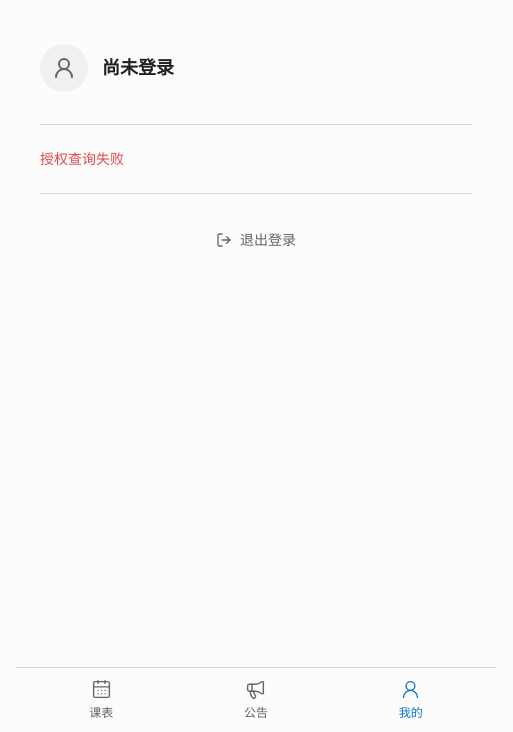
Test: mobile routes and course interactions › keeps an authorization failure across app routes until manually retried
This screenshot has width=513, height=732.
Expected: the text "授权查询失败" is shown, [40,150,124,167]
Click the link "课表": (101, 699) [89,678,113,720]
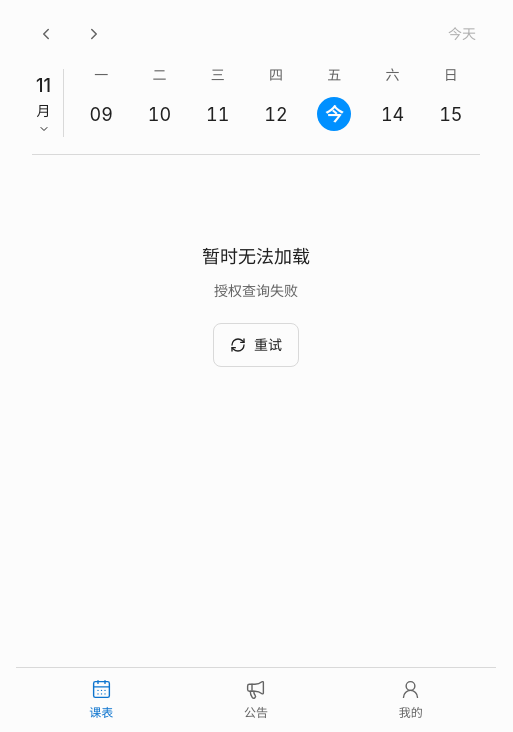
Expected: the text "授权查询失败" is shown, [214,279,298,303]
Click the button "重试": (256, 345) [213,323,299,367]
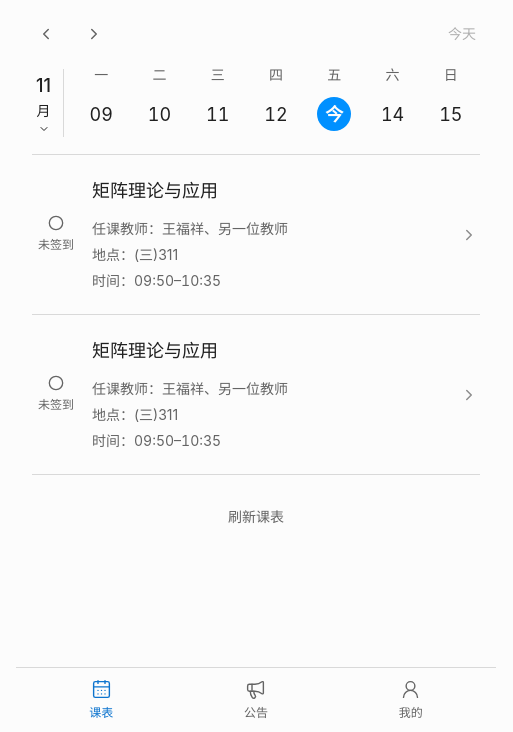
Click the link "我的": (411, 699) [399,678,423,720]
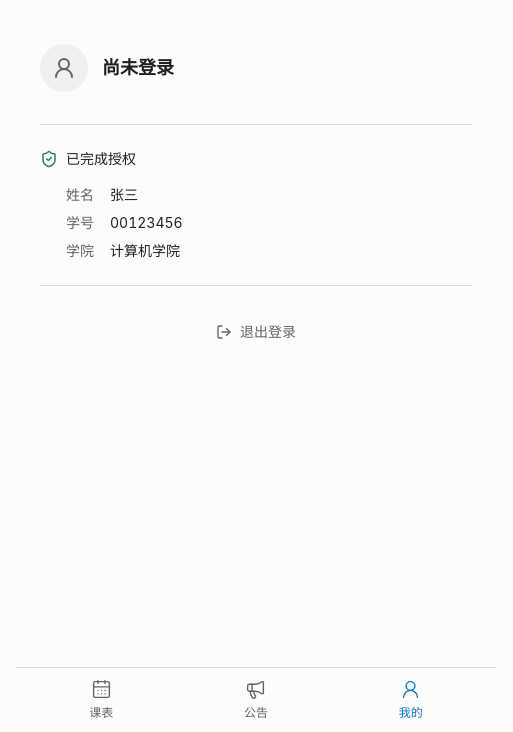
Result: the text "已完成授权" is shown at [40,150,136,168]
